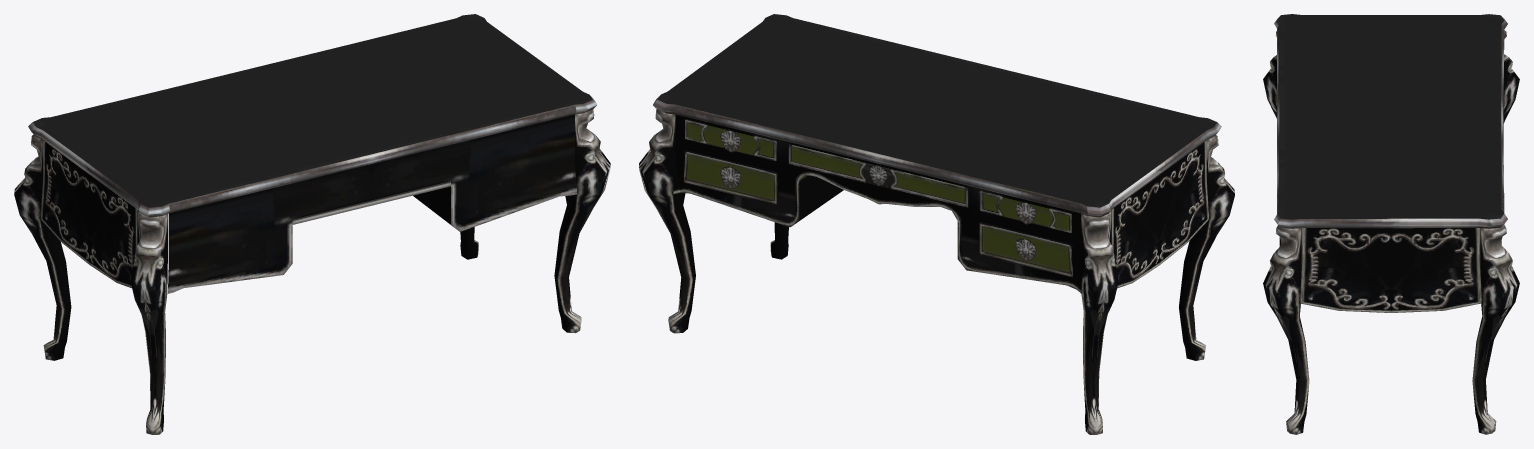
File: furni_0201213_03.FBX
The picture shows the model from 3 angles, left to right: view 1: azimuth 30°, elevation 25°; view 2: azimuth 150°, elevation 25°; view 3: azimuth 270°, elevation 25°; orthographic projection. The views are drawn at different scales.
Visible parts, largest first — view 1: furni_0201213_03; view 2: furni_0201213_03; view 3: furni_0201213_03.
Part boxes in pixels (x1=…): furni_0201213_03: x1=14, y1=14, x2=610, y2=434; furni_0201213_03: x1=639, y1=14, x2=1234, y2=434; furni_0201213_03: x1=1263, y1=14, x2=1519, y2=434.
Size of the model in its own units: 173 by 79.92 by 85.08.
